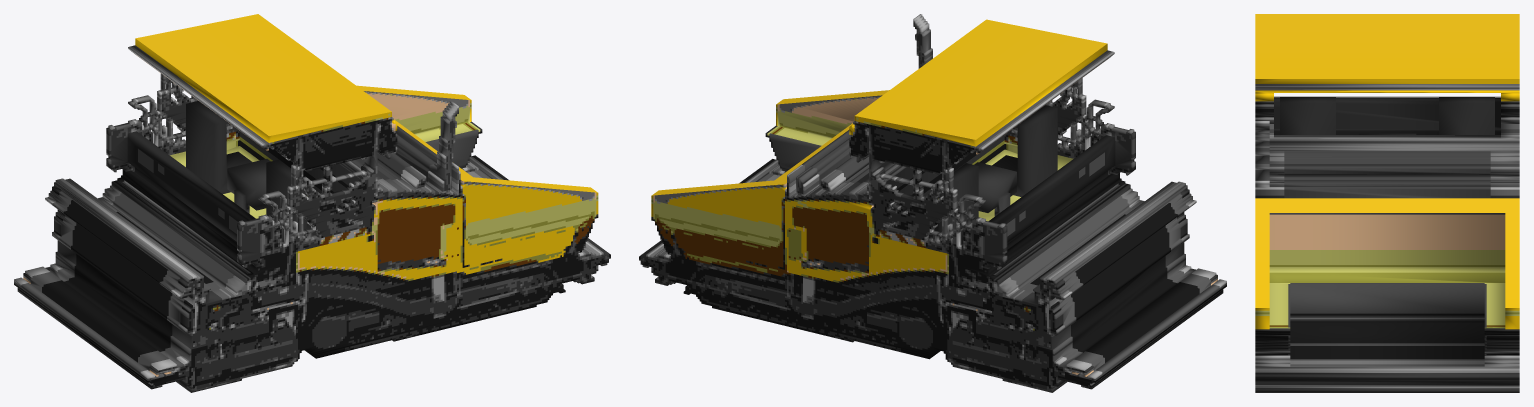
Rendered from asphalt-paver.fbx.
The picture shows the model from 3 angles, left to right: view 1: azimuth 30°, elevation 25°; view 2: azimuth 150°, elevation 25°; view 3: azimuth 270°, elevation 25°; orthographic projection.
Visible parts, largest first — view 1: asphalt-paver-machine-256px; view 2: asphalt-paver-machine-256px; view 3: asphalt-paver-machine-256px.
Boxes of the visible parts, x1,y1,x2,y2 form: asphalt-paver-machine-256px: (14, 14, 610, 392); asphalt-paver-machine-256px: (639, 14, 1226, 392); asphalt-paver-machine-256px: (1255, 14, 1519, 392).
Size of the model in its own units: 2560 by 1256 by 1280.
Materials: 1 (1 with a texture image).
